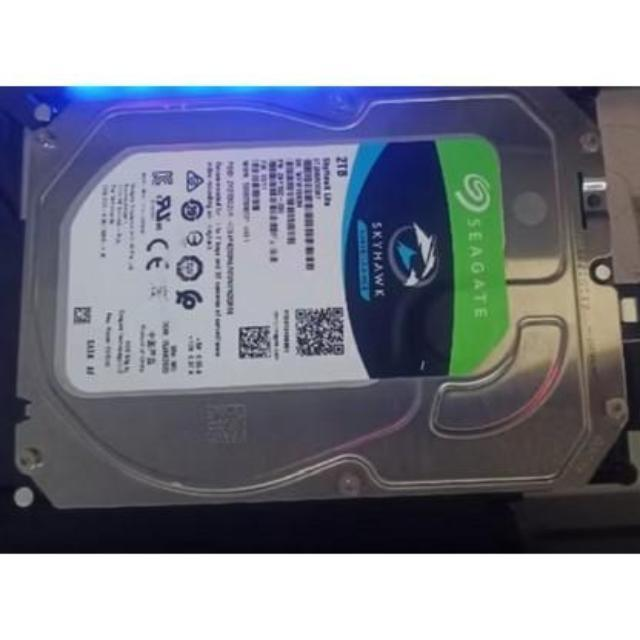DISK: (15, 86, 640, 502)
